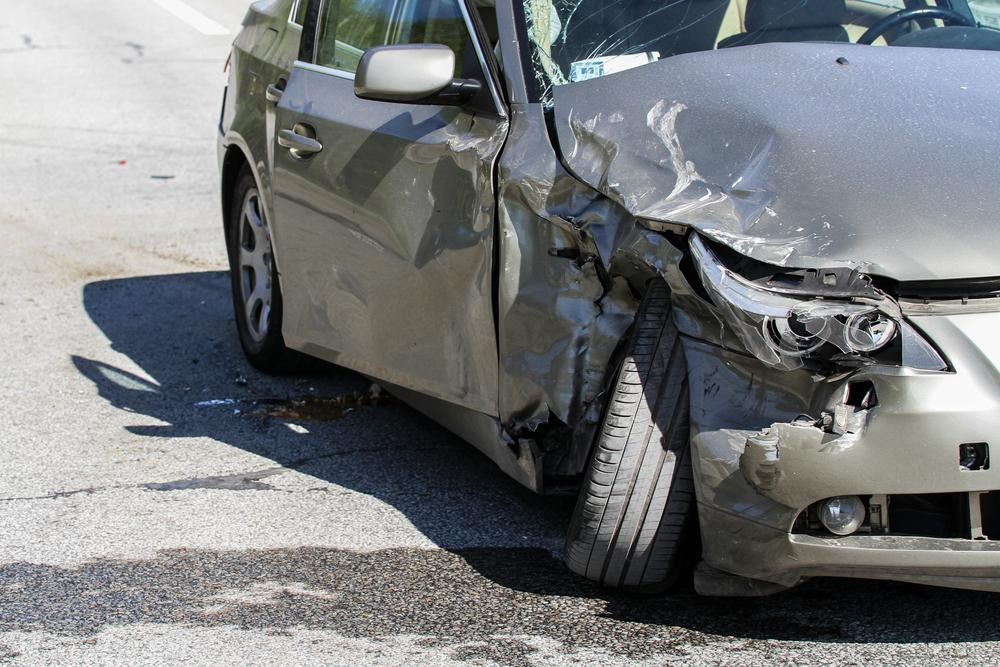crack: (583, 234, 643, 316)
dent: (491, 158, 677, 428), (557, 109, 869, 267), (675, 294, 813, 433), (405, 111, 505, 299)
glass shatter: (522, 0, 1000, 102)
lamp broken: (692, 235, 954, 375)
